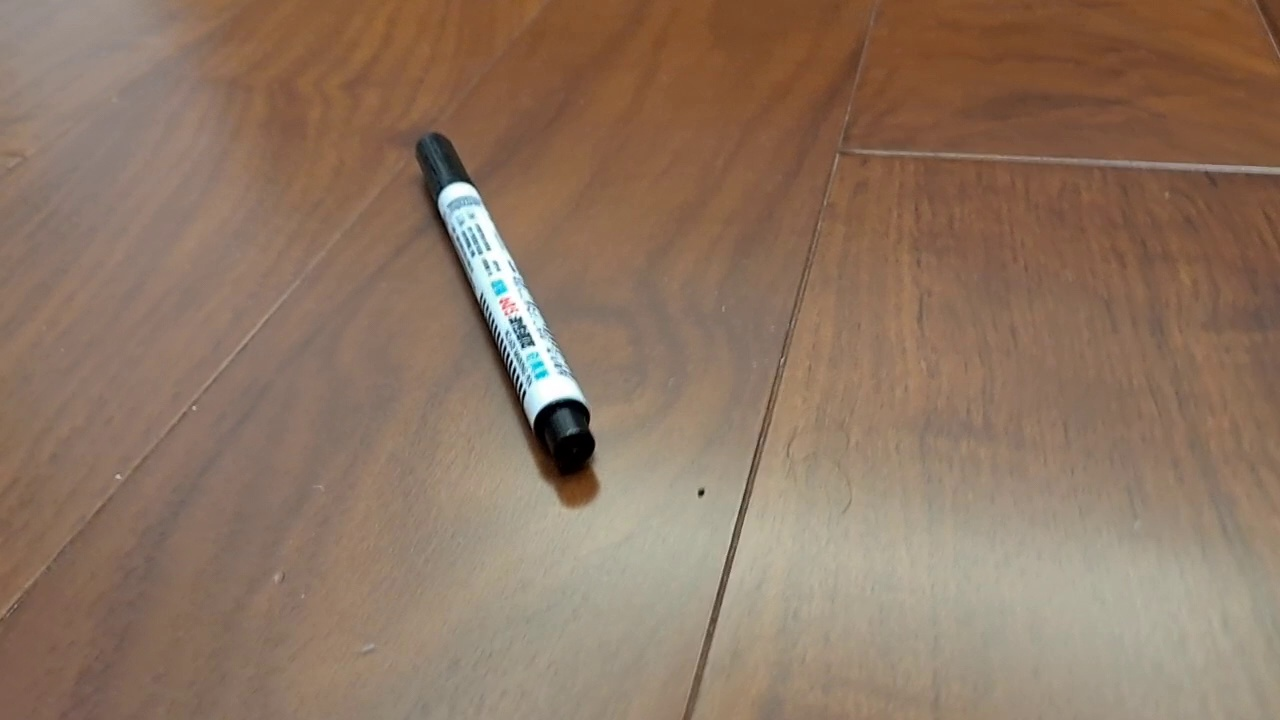pen: (414, 130, 596, 477)
